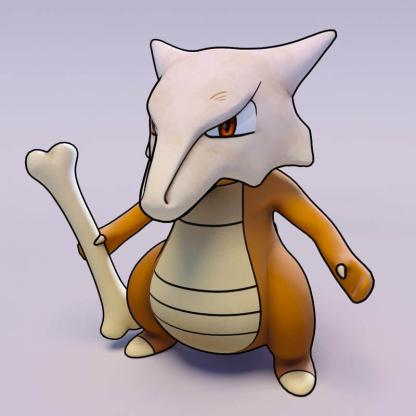Marowak: (21, 26, 388, 405)
